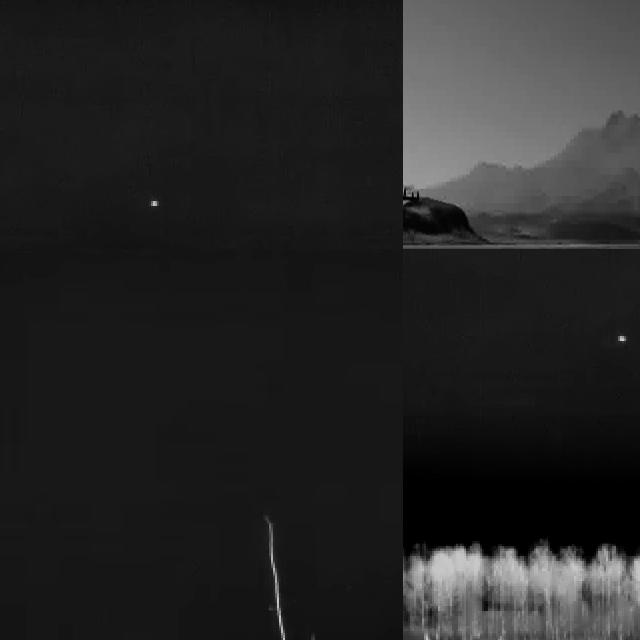0: (261, 602, 279, 619)
1: (601, 324, 635, 360), (137, 192, 163, 220)
drone: (403, 183, 418, 229)
